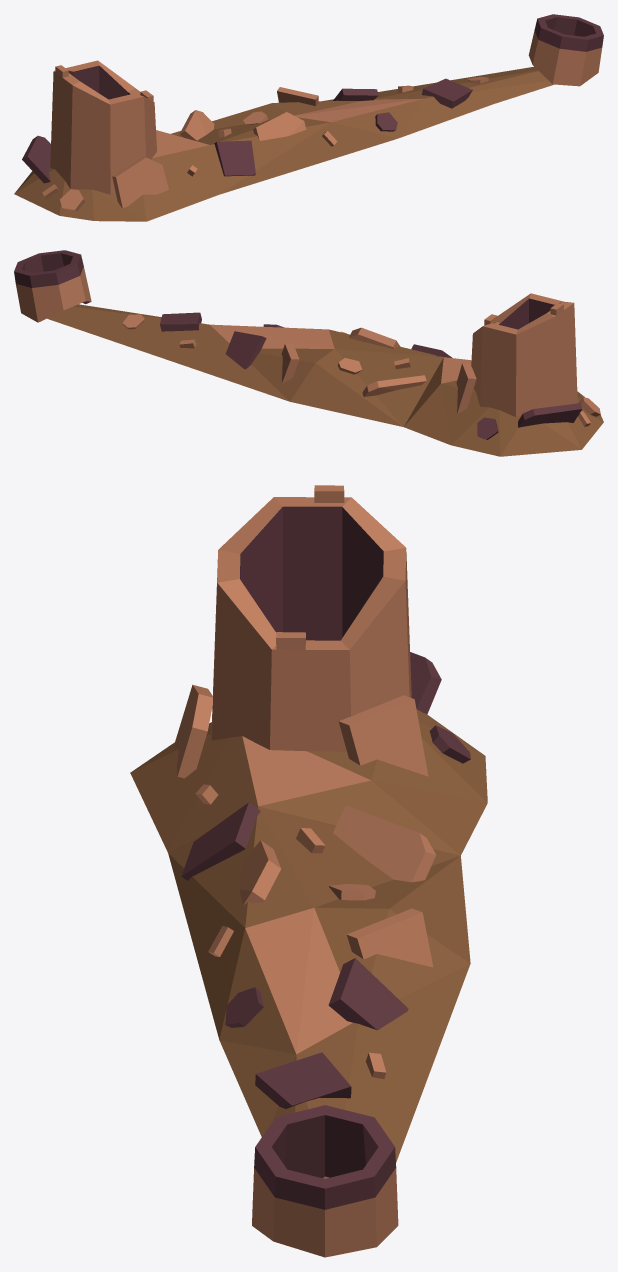
The model's file is chimney-big-torndown.fbx.
3 renders of one model, top to bottom at view 1: azimuth 30°, elevation 25°; view 2: azimuth 150°, elevation 25°; view 3: azimuth 270°, elevation 25°, orthographic. The views are drawn at different scales.
Visible parts, largest first — view 1: chimney-big-torndown; view 2: chimney-big-torndown; view 3: chimney-big-torndown.
Boxes of the visible parts, x1=… form: chimney-big-torndown: x1=14, y1=14, x2=603, y2=221; chimney-big-torndown: x1=14, y1=250, x2=603, y2=456; chimney-big-torndown: x1=130, y1=485, x2=487, y2=1257.
Bounding box in the file's own units: 18.14 × 3.8 × 4.9.
